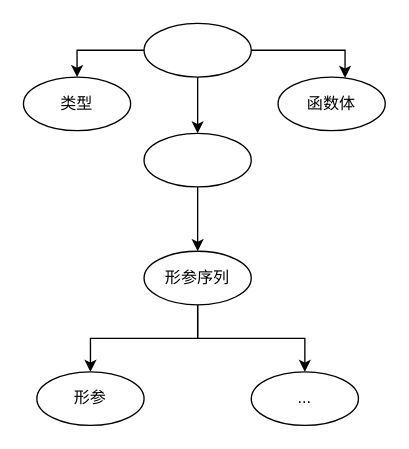
Image size: 409x449. Some labels were removed from this diagram. The shapes that lost their labels are listed below. From the top down, each one's centre as x and y in pixels, then its label:
At point 197,49: "函数定义".
At point 197,159: "外部变量序列".
